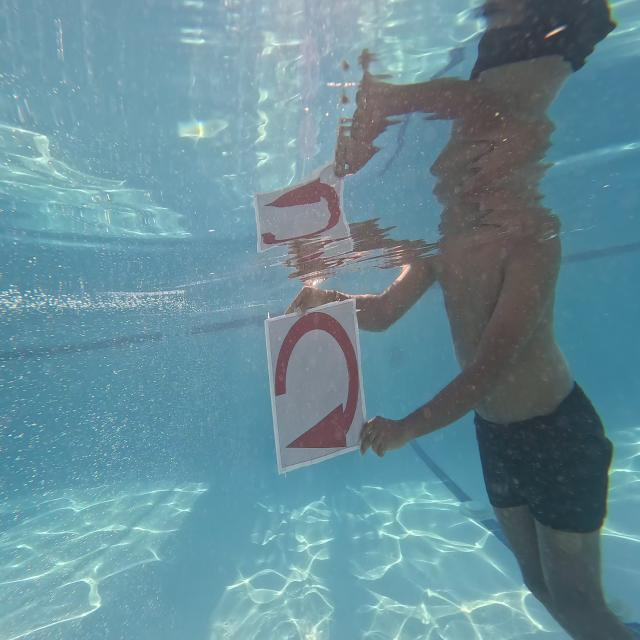red_side: (255, 295, 381, 478)
